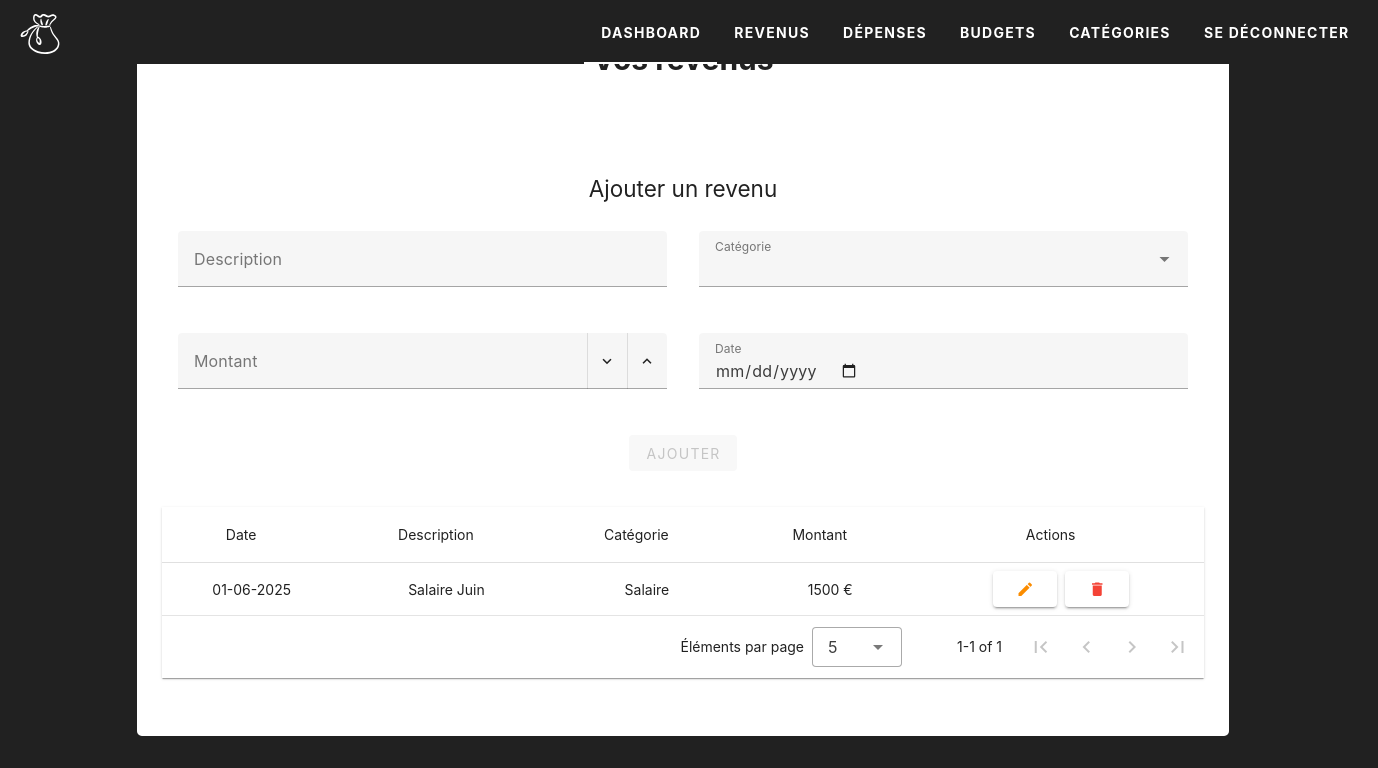
Scenario: Prévisionnel App - Page des revenus - IncomesView (mocked) - authenticated › deletes an income
(page scrolled)
Expected: the text "Salaire Juin" is shown, [408,580,485,598]
click on the delete btn
Click the button with test id "income-delete": (1097, 589) [1065,571,1129,607]
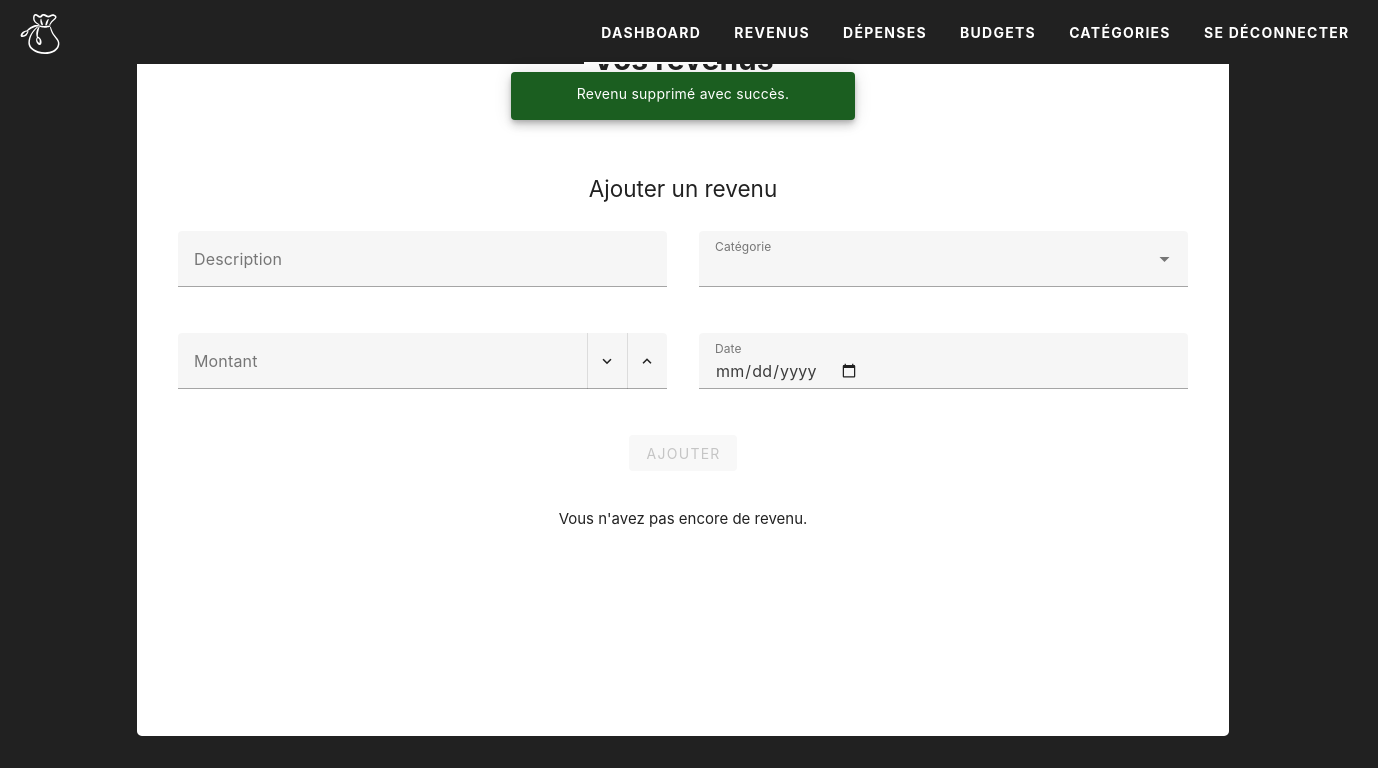
Expected: the text "Salaire Juin" is gone
